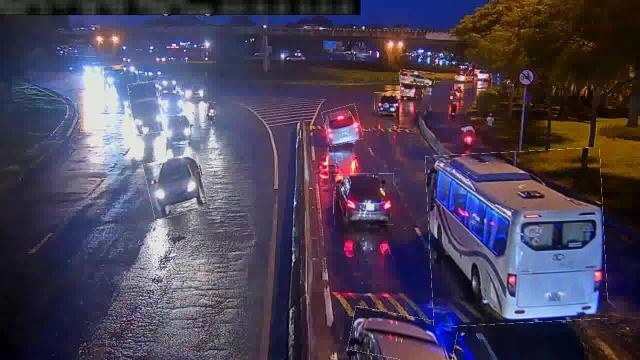Bike: (206, 102, 216, 122)
Bus: (428, 150, 606, 326)
Car: (349, 310, 457, 360), (145, 156, 205, 217), (334, 173, 394, 225), (323, 105, 361, 144), (163, 115, 190, 143), (374, 92, 402, 114), (399, 71, 435, 85), (399, 84, 423, 96)
Truck: (130, 81, 162, 134)
